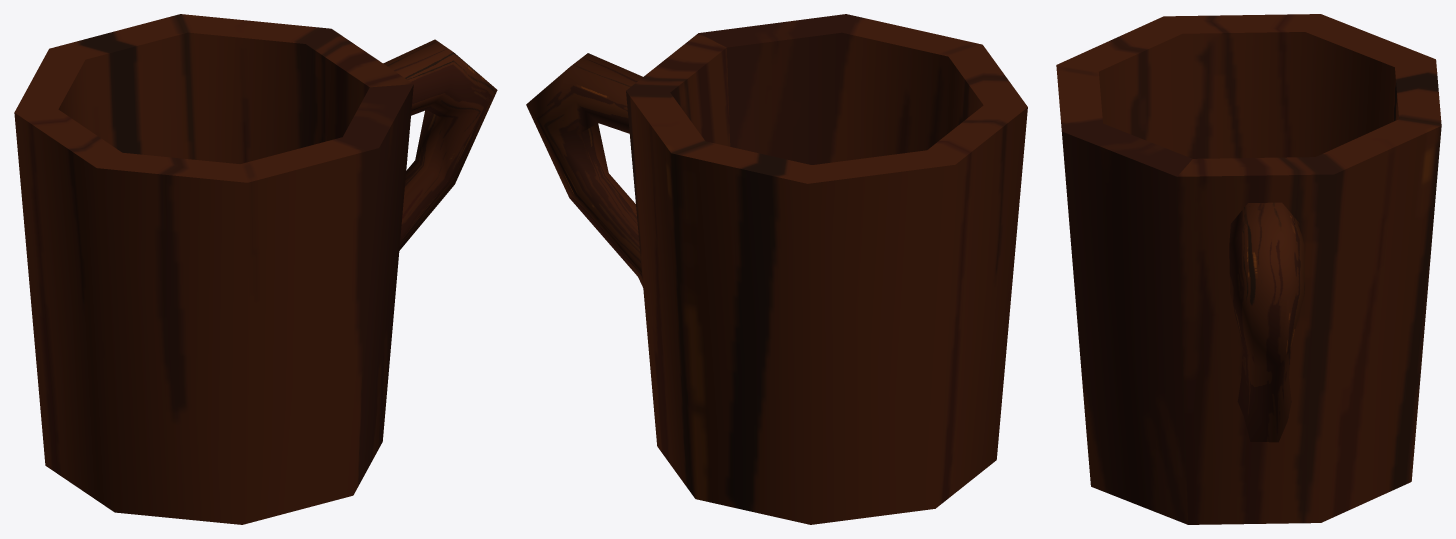
Rendered from SM_PROP_cup.fbx.
3 views of the same model, side by side, from view 1: azimuth 30°, elevation 25°; view 2: azimuth 150°, elevation 25°; view 3: azimuth 270°, elevation 25° (orthographic).
Parts seen in each view (by area): view 1: SM_PROP_cup; view 2: SM_PROP_cup; view 3: SM_PROP_cup.
Part boxes in pixels (box(x1,y1,x2,y2)): SM_PROP_cup: box(14, 14, 497, 524); SM_PROP_cup: box(526, 14, 1027, 524); SM_PROP_cup: box(1056, 14, 1441, 524).
Bounding box in the file's own units: 16.08 × 12.18 × 11.79.
